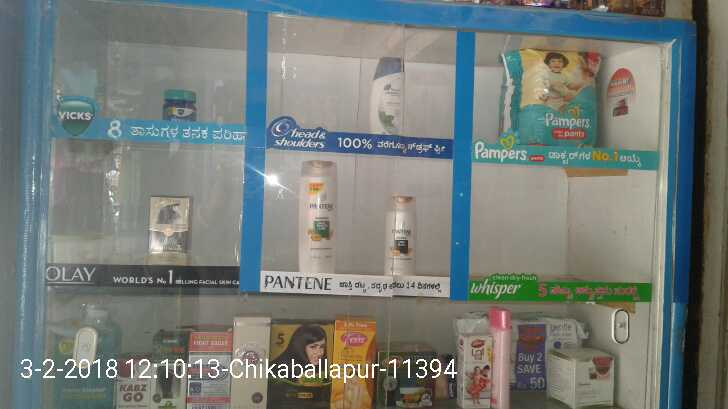beauty: (296, 161, 337, 277), (370, 50, 407, 136), (148, 194, 193, 258), (386, 188, 416, 279)
pharmacy: (496, 46, 606, 152), (162, 89, 201, 124)
